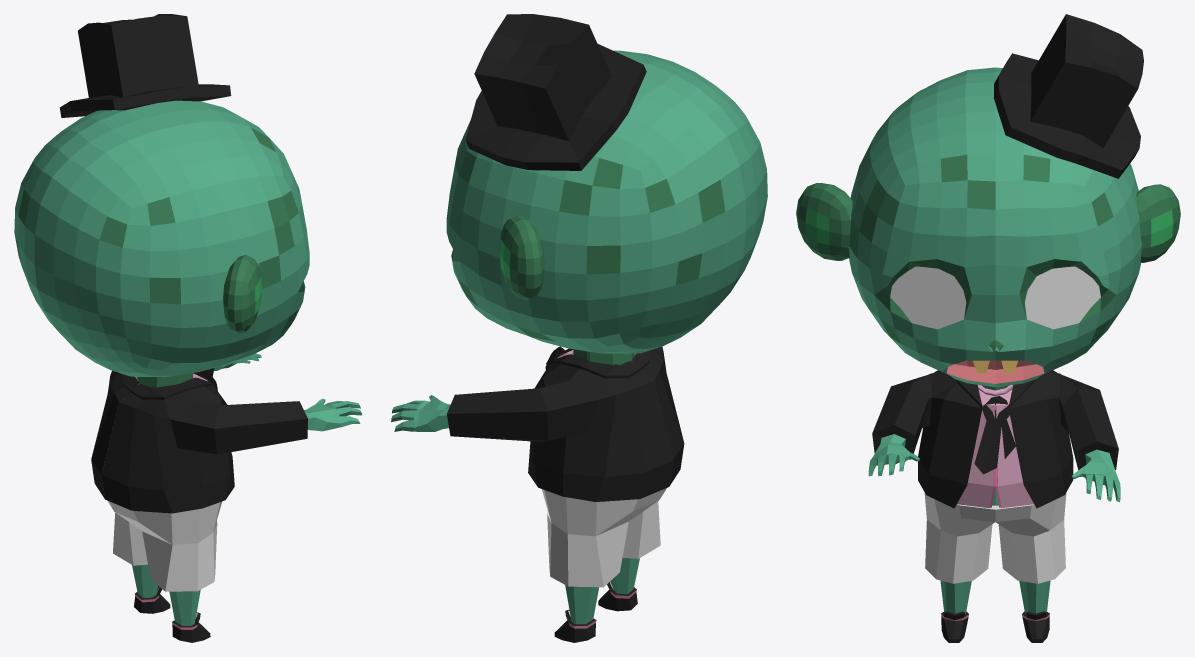
The model's file is ZOMBIE 3.fbx.
The picture shows the model from 3 angles, left to right: view 1: azimuth 30°, elevation 25°; view 2: azimuth 150°, elevation 25°; view 3: azimuth 270°, elevation 25°; orthographic projection. The views are drawn at different scales.
Visible parts, largest first — view 1: head, body; view 2: head, body; view 3: head, body, corbata.
Part boxes in pixels (x1,y1,x2,y2): head: (14,14,309,387); body: (91,353,362,642); head: (446,14,767,365); body: (391,346,684,642); head: (796,14,1180,390); body: (868,370,1120,642); corbata: (974,396,1015,474).
Bounding box in the file's own units: 79.8 × 161 × 92.2.
